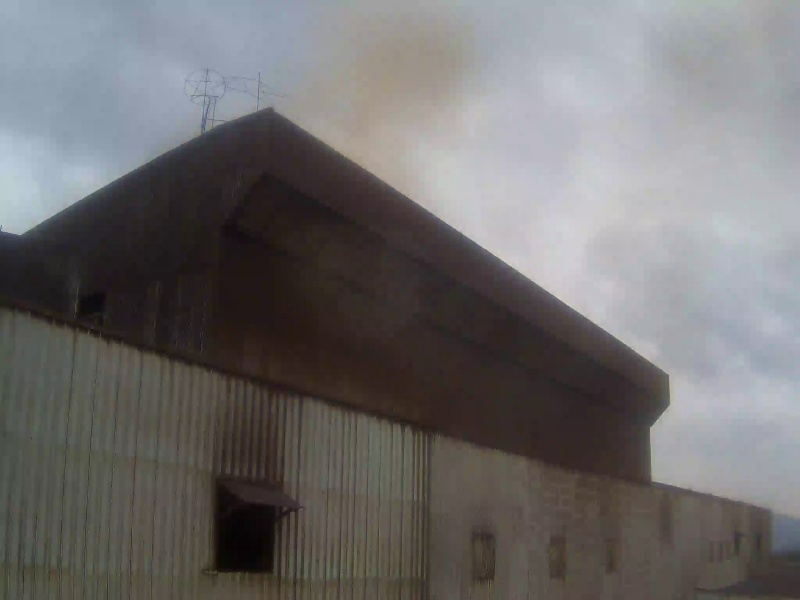bom: (4, 5, 242, 200), (630, 235, 788, 478)
ruim: (235, 2, 681, 396)
